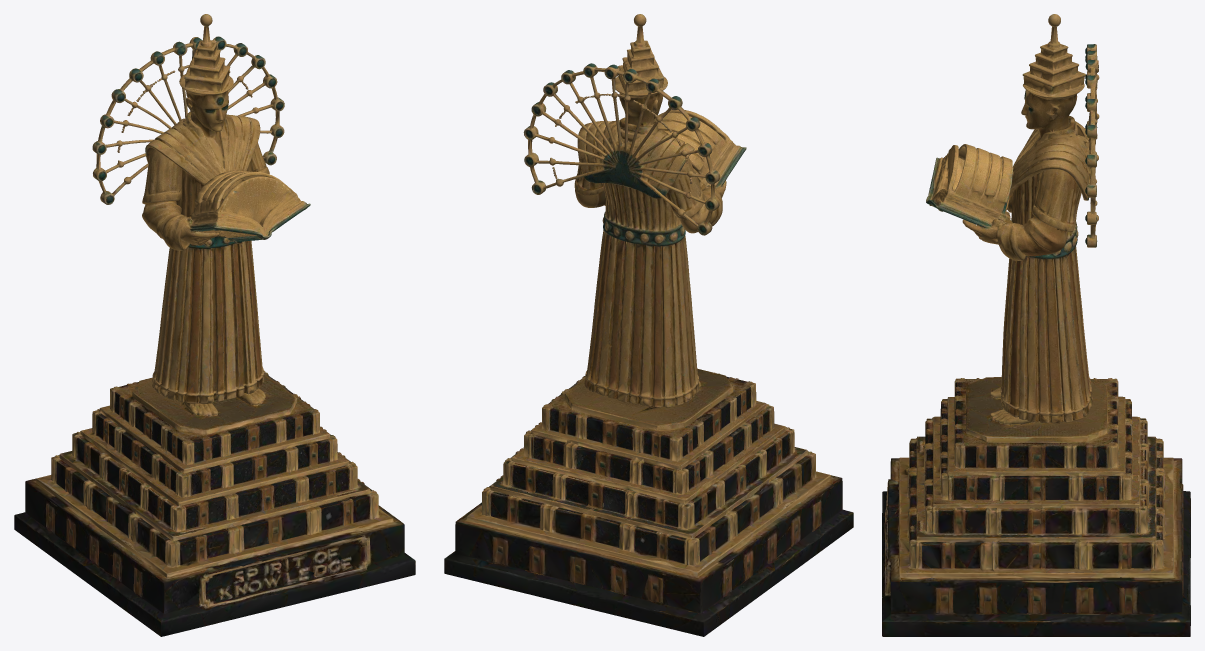
Rendered from knowledge.glb.
3 views of the same model, side by side, from view 1: azimuth 30°, elevation 25°; view 2: azimuth 150°, elevation 25°; view 3: azimuth 270°, elevation 25° (orthographic). The views are drawn at different scales.
Visible parts, largest first — view 1: Mesh_0; view 2: Mesh_0; view 3: Mesh_0.
Boxes of the visible parts, bbox=[...] form: Mesh_0: bbox=[14, 14, 415, 636]; Mesh_0: bbox=[444, 14, 853, 636]; Mesh_0: bbox=[882, 14, 1190, 636].
Size of the model in its own units: 6.02 by 12 by 6.02.
Materials: 1 (1 with a texture image).
